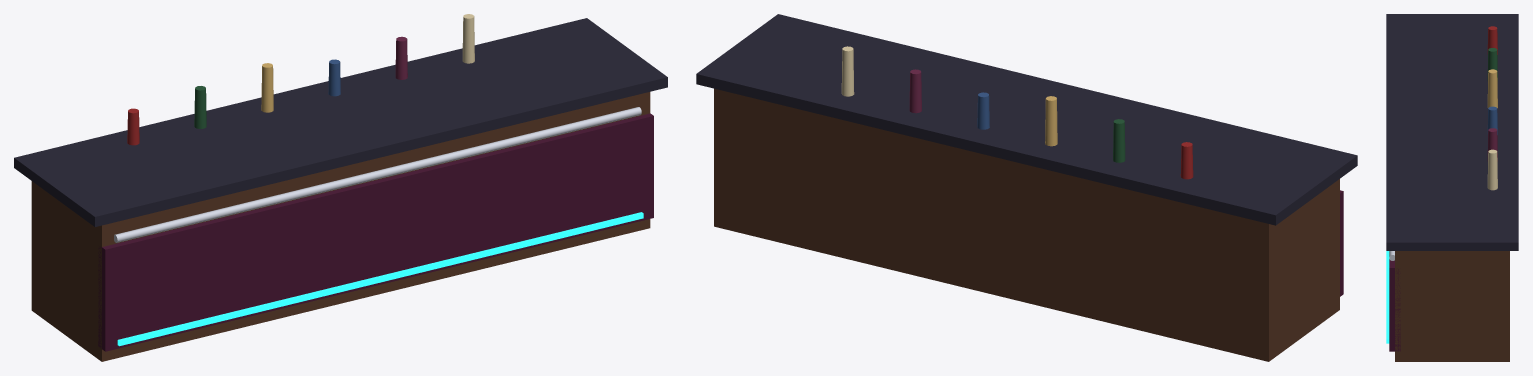
Rendered from BarCounter.glb.
The picture shows the model from 3 angles, left to right: view 1: azimuth 30°, elevation 25°; view 2: azimuth 150°, elevation 25°; view 3: azimuth 270°, elevation 25°; orthographic projection. The views are drawn at different scales.
Visible parts, largest first — view 1: BarCounter; view 2: BarCounter; view 3: BarCounter.
Part boxes in pixels (x1,y1,x2,y2): BarCounter: (14, 14, 667, 361); BarCounter: (696, 14, 1357, 361); BarCounter: (1386, 14, 1518, 361).
Size of the model in its own units: 4.7 by 1.55 by 1.15.
